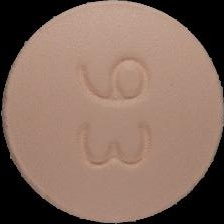61786-717: (0, 0, 224, 224)
